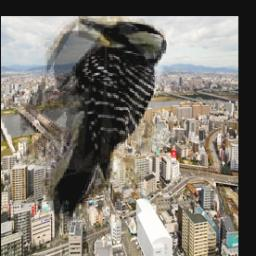Woodpecker: (20, 16, 169, 225)
